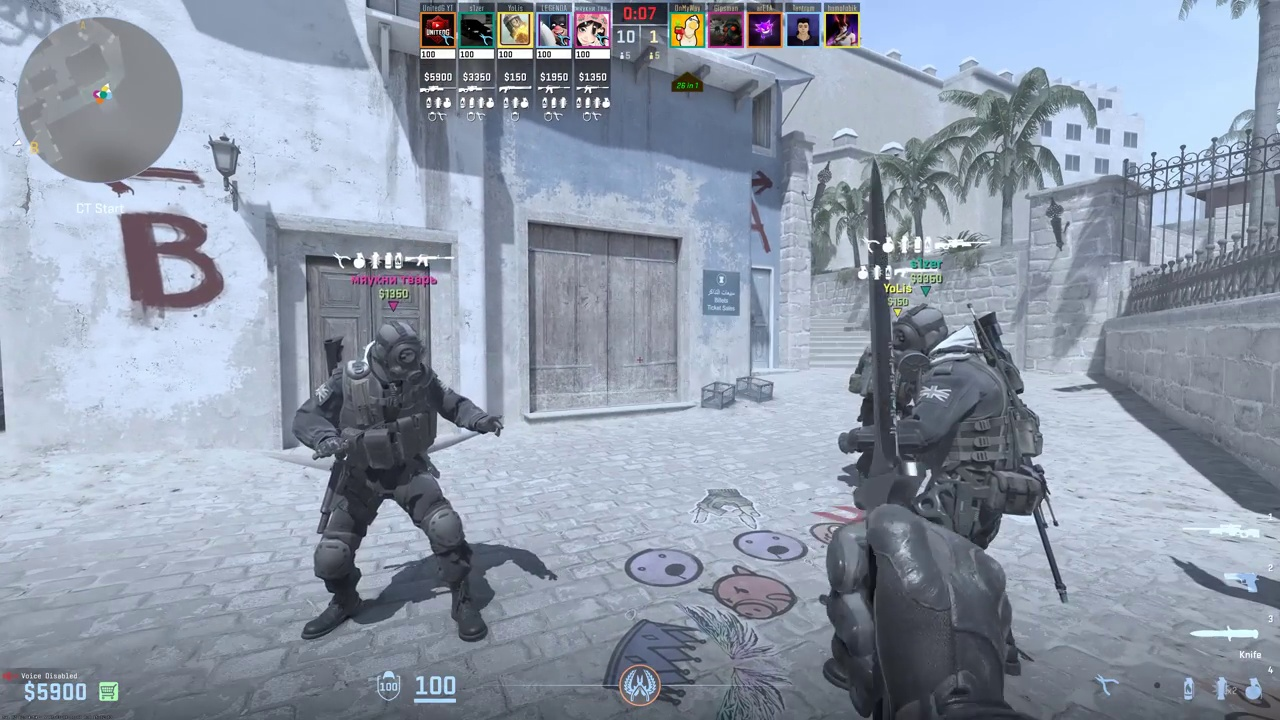CT: (309, 318, 481, 642), (888, 304, 1029, 543)
